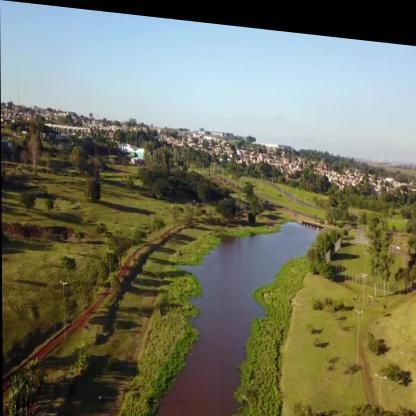agua: (182, 261, 259, 415), (218, 219, 290, 283)
